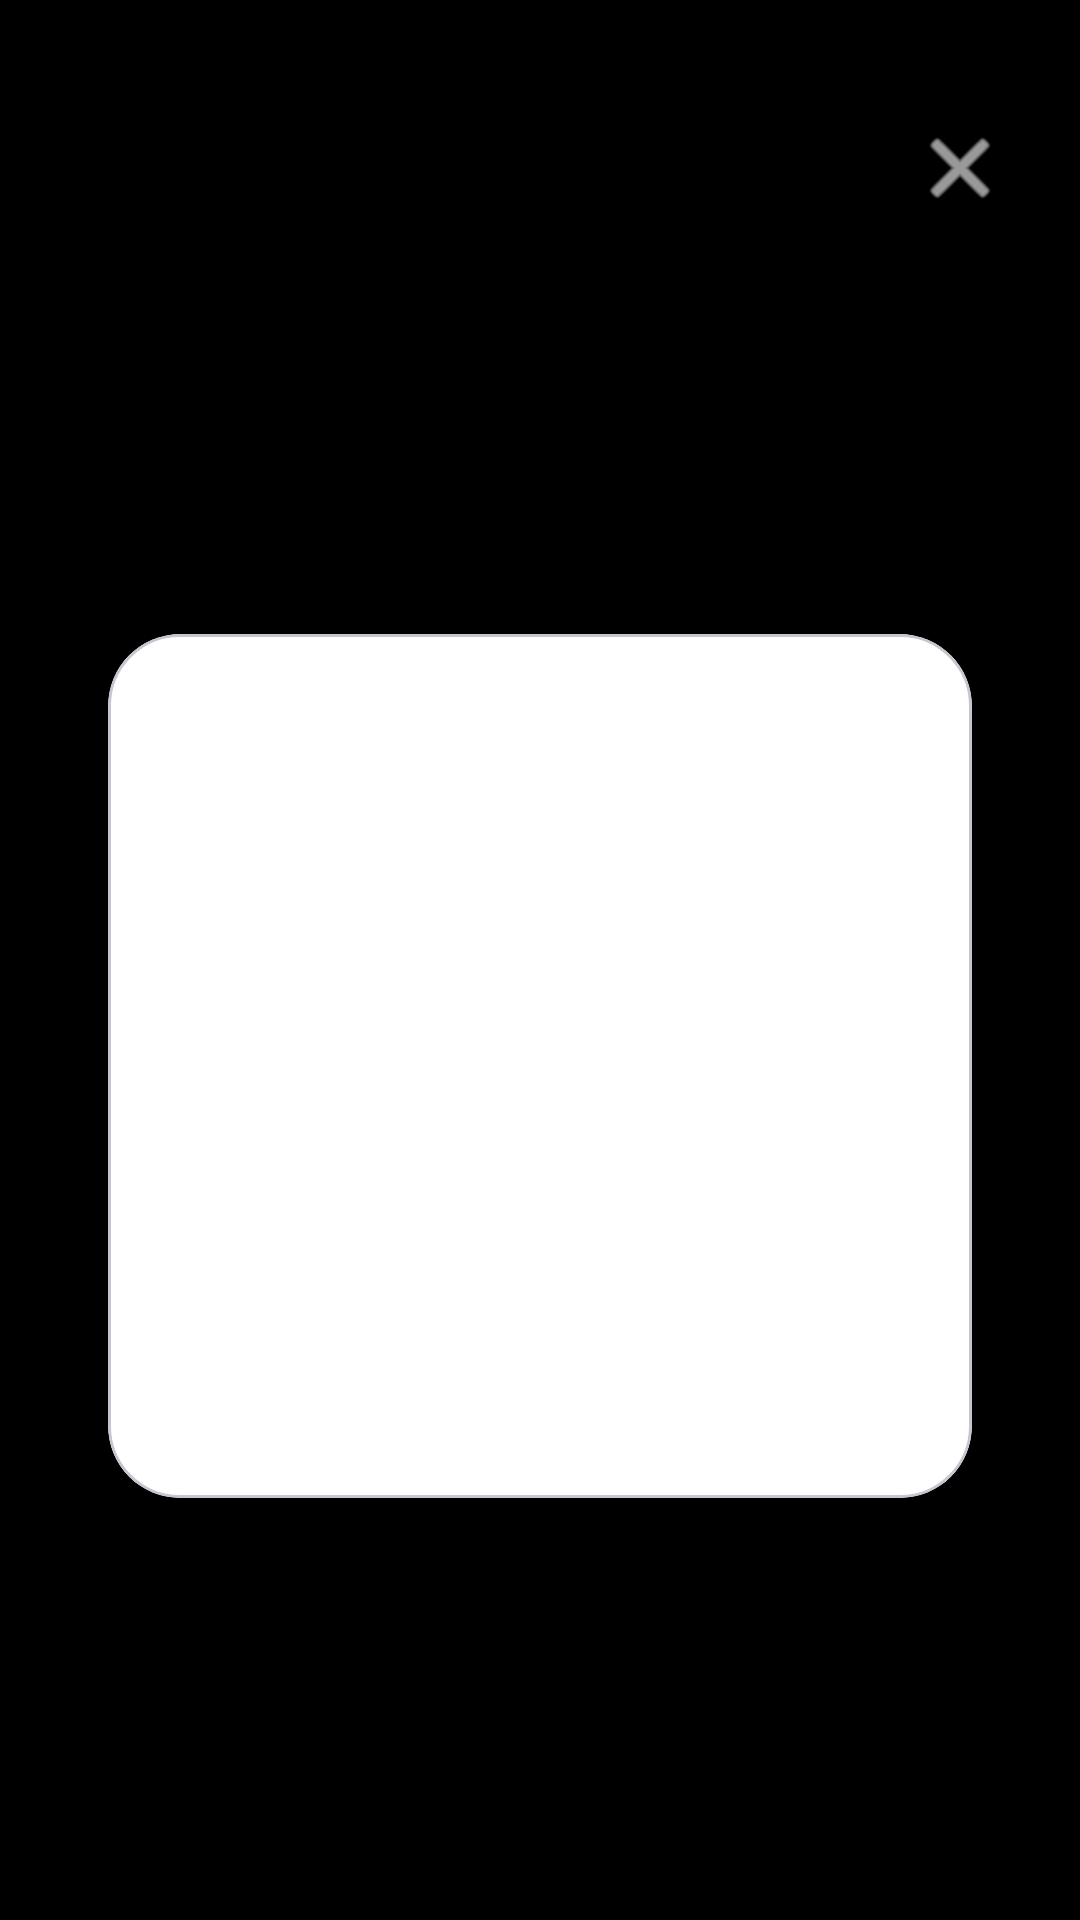

Icon click points for this 1080x1920 phone screenshot, format (x,y):
close clear cancel: (960,168)
